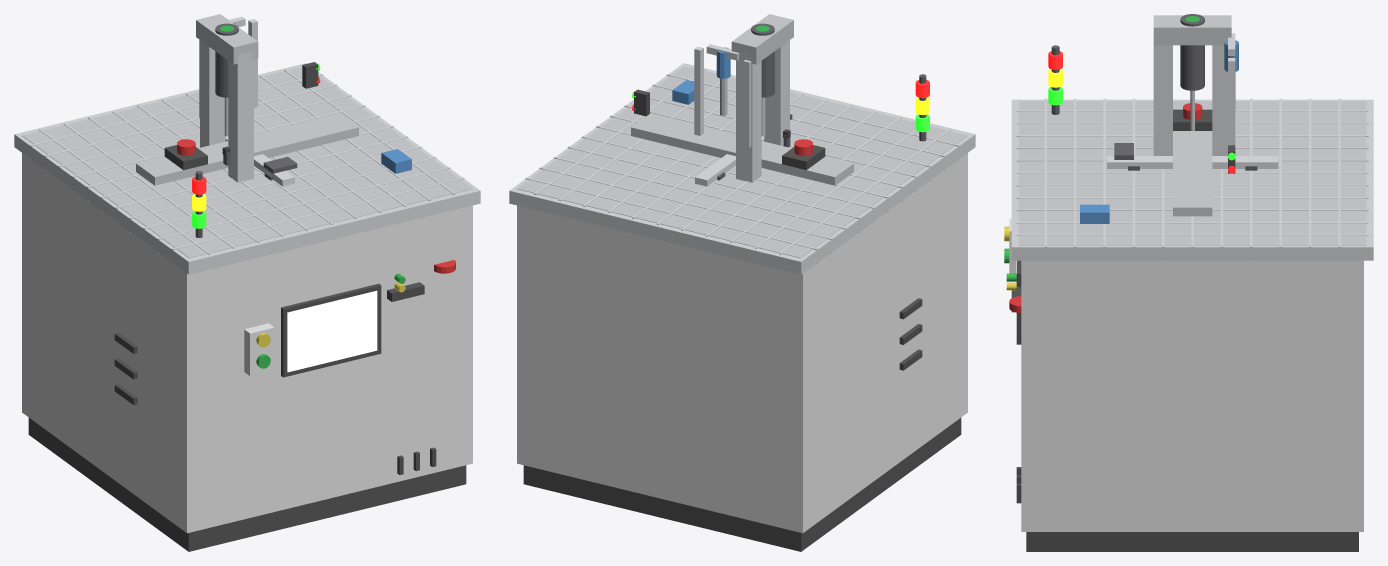
3 renders of one model, left to right at view 1: azimuth 30°, elevation 25°; view 2: azimuth 150°, elevation 25°; view 3: azimuth 270°, elevation 25°, orthographic. The views are drawn at different scales.
Visible parts, largest first — view 1: Cabinet.001, Plate_Center.001, Plate_Trim.001, Skirt.001, HMI_Screen.001, ST20_Rail, ST20_Arch_L, ST20_Arch_R, HMI_Border.001, ST20_Arch_Top, Btn_Box.001, ST20_Probe_Body (+5 smaller); view 2: Cabinet.001, Plate_Center.001, Plate_Trim.001, Skirt.001, ST20_Rail, ST20_Arch_R, ST20_Arch_L, ST20_Arch_Top, ST20_Arch_R.001, ST20_Arch_L.001, ST20_Probe_Body, Grid_X_4.001 (+6 smaller); view 3: Cabinet.001, Plate_Center.001, Plate_Trim.001, Skirt.001, ST20_Rail, ST20_Arch_L, ST20_Arch_Top, ST20_Arch_R, ST20_Guide_Rail, ST20_Probe_Body, Grid_Y_4.001, ST20_Arch_R.001 (+18 smaller).
Part boxes in pixels (left/top/right/bottom): Cabinet.001: left=22, top=153, right=472, bottom=533; Plate_Center.001: left=22, top=67, right=472, bottom=258; Plate_Trim.001: left=14, top=63, right=480, bottom=274; Skirt.001: left=28, top=418, right=466, bottom=551; HMI_Screen.001: left=287, top=290, right=377, bottom=372; ST20_Rail: left=136, top=113, right=358, bottom=185; ST20_Arch_L: left=228, top=51, right=253, bottom=182; ST20_Arch_R: left=200, top=40, right=225, bottom=147; HMI_Border.001: left=281, top=283, right=381, bottom=377; ST20_Arch_Top: left=196, top=14, right=258, bottom=64; Btn_Box.001: left=244, top=323, right=274, bottom=376; ST20_Probe_Body: left=215, top=23, right=238, bottom=97; Cabinet.001: left=517, top=153, right=967, bottom=533; Plate_Center.001: left=517, top=66, right=967, bottom=258; Plate_Trim.001: left=509, top=63, right=975, bottom=274; Skirt.001: left=523, top=418, right=961, bottom=551; ST20_Rail: left=631, top=113, right=853, bottom=185; ST20_Arch_R: left=736, top=51, right=761, bottom=182; ST20_Arch_L: left=764, top=40, right=789, bottom=147; ST20_Arch_Top: left=731, top=14, right=793, bottom=64; ST20_Arch_R.001: left=694, top=46, right=703, bottom=135; ST20_Arch_L.001: left=743, top=60, right=751, bottom=147; ST20_Probe_Body: left=751, top=23, right=774, bottom=97; Grid_X_4.001: left=539, top=167, right=832, bottom=253; Cabinet.001: left=1021, top=260, right=1363, bottom=531; Plate_Center.001: left=1019, top=101, right=1366, bottom=245; Plate_Trim.001: left=1011, top=99, right=1373, bottom=260; Skirt.001: left=1026, top=532, right=1358, bottom=551; ST20_Rail: left=1173, top=104, right=1212, bottom=216; ST20_Arch_L: left=1153, top=45, right=1172, bottom=155; ST20_Arch_Top: left=1153, top=15, right=1231, bottom=45; ST20_Arch_R: left=1212, top=45, right=1227, bottom=155; ST20_Guide_Rail: left=1107, top=156, right=1278, bottom=168; ST20_Probe_Body: left=1180, top=14, right=1204, bottom=90; Grid_Y_4.001: left=1016, top=221, right=1368, bottom=223; ST20_Arch_R.001: left=1228, top=58, right=1235, bottom=145.
Bounding box in the file's own units: 0.7175 × 1.02 × 0.755.
